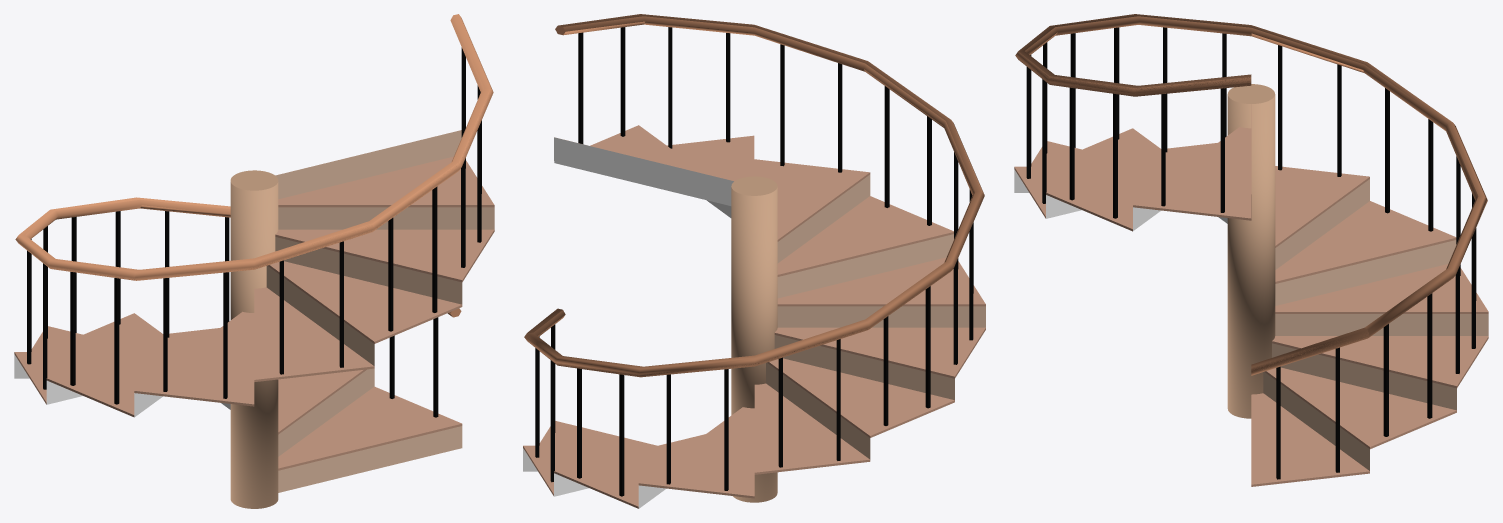
File: sh-contrib-stairs-spiral.glb
3 views of the same model, side by side, from view 1: azimuth 30°, elevation 25°; view 2: azimuth 150°, elevation 25°; view 3: azimuth 270°, elevation 25° (orthographic). The views are drawn at different scales.
Parts seen in each view (by area): view 1: 54_54, Cylinder, Cube.023_Cube.025, 1_1.001, 28_28; view 2: 54_54, Cube.023_Cube.025, 1_1.001, Cylinder, 28_28; view 3: 54_54, Cylinder, 1_1.001, Cube.023_Cube.025, 28_28.
Boxes of the visible parts, x1=… form: 54_54: x1=14, y1=130, x2=494, y2=492; Cylinder: x1=230, y1=170, x2=278, y2=508; Cube.023_Cube.025: x1=27, y1=47, x2=481, y2=417; 1_1.001: x1=15, y1=14, x2=493, y2=317; 28_28: x1=14, y1=354, x2=230, y2=417; 54_54: x1=523, y1=125, x2=985, y2=508; Cube.023_Cube.025: x1=535, y1=27, x2=973, y2=496; 1_1.001: x1=524, y1=14, x2=984, y2=377; Cylinder: x1=731, y1=176, x2=777, y2=502; 28_28: x1=523, y1=137, x2=733, y2=508; 54_54: x1=1014, y1=104, x2=1488, y2=486; Cylinder: x1=1227, y1=84, x2=1275, y2=418; 1_1.001: x1=1015, y1=14, x2=1487, y2=375; Cube.023_Cube.025: x1=1026, y1=27, x2=1476, y2=479; 28_28: x1=1014, y1=169, x2=1227, y2=230.
Size of the model in its own units: 1 by 1 by 1.
